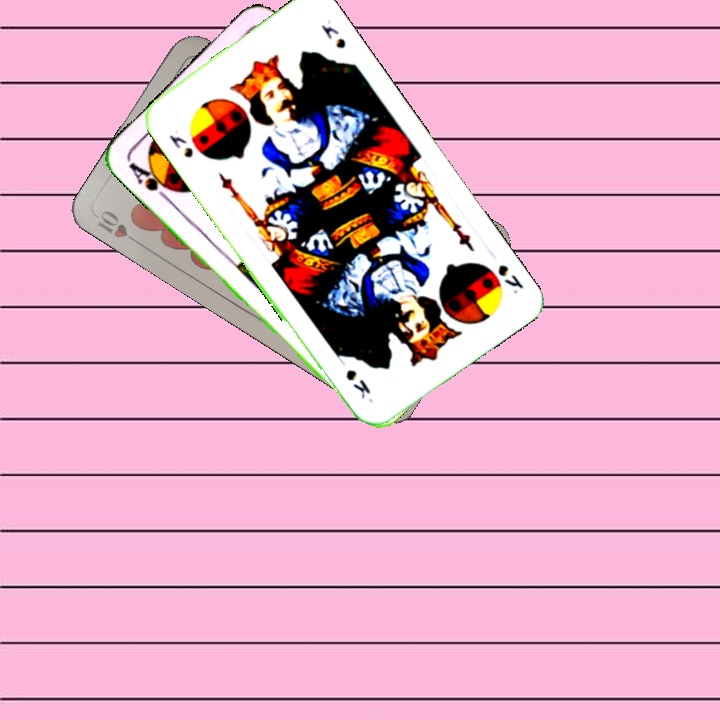H10: (92, 206, 145, 249)
SA: (124, 158, 177, 203)
SK: (493, 260, 527, 297), (165, 130, 196, 161)
